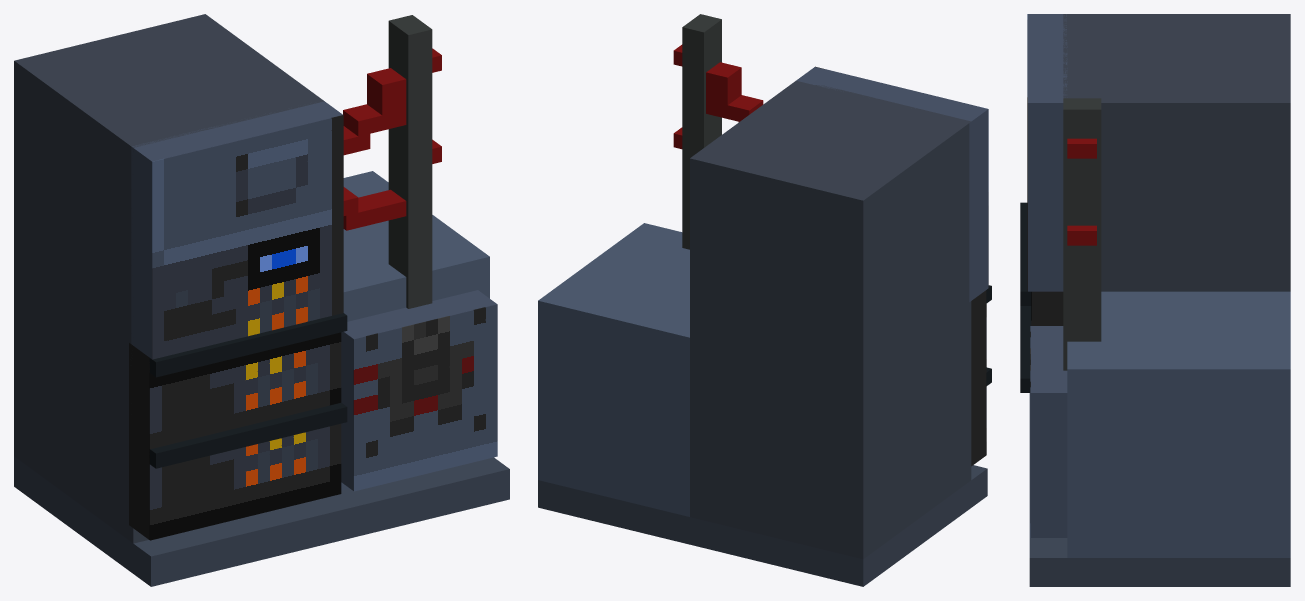
The model's file is CMU3DTelecomReceiverCloud.glb.
3 views of the same model, side by side, from view 1: azimuth 30°, elevation 25°; view 2: azimuth 150°, elevation 25°; view 3: azimuth 270°, elevation 25° (orthographic). The views are drawn at different scales.
Parts seen in each view (by area): view 1: left receiver rack body, upper receiver control face original face, antenna base control cover original face, full width receiver base, separate rack module 2 original face, separate rack module 1 original face, black vertical antenna mast, right antenna support enclosure, upper receiver control face, antenna base control cover, black separating rack rail 2, black separating rack rail 1 (+5 smaller); view 2: left receiver rack body, right antenna support enclosure, full width receiver base, upper receiver control face, black vertical antenna mast, separate rack module 1, separate rack module 2, separate burgundy antenna branch 3, separate burgundy antenna branch 2; view 3: right antenna support enclosure, left receiver rack body, upper receiver control face, full width receiver base, black vertical antenna mast, antenna base control cover, separate rack module 1, black separating rack rail 2, black separating rack rail 1, separate burgundy antenna branch 6, separate burgundy antenna branch 7.
Boxes of the visible parts, x1,y1,x2,y2 form: left receiver rack body: [14, 14, 324, 543]; upper receiver control face original face: [152, 115, 343, 359]; antenna base control cover original face: [353, 304, 497, 491]; full width receiver base: [14, 456, 509, 586]; separate rack module 2 original face: [149, 423, 341, 540]; separate rack module 1 original face: [149, 332, 341, 449]; black vertical antenna mast: [388, 15, 432, 308]; right antenna support enclosure: [341, 171, 489, 490]; upper receiver control face: [131, 101, 342, 358]; antenna base control cover: [341, 290, 496, 490]; black separating rack rail 2: [149, 402, 347, 468]; black separating rack rail 1: [149, 313, 347, 377]; left receiver rack body: [690, 80, 971, 559]; right antenna support enclosure: [538, 223, 689, 516]; full width receiver base: [538, 465, 987, 586]; upper receiver control face: [796, 67, 988, 301]; black vertical antenna mast: [682, 14, 721, 249]; separate rack module 1: [971, 290, 986, 383]; separate rack module 2: [971, 373, 986, 466]; separate burgundy antenna branch 3: [706, 62, 741, 105]; separate burgundy antenna branch 2: [706, 95, 763, 121]; right antenna support enclosure: [1067, 291, 1290, 557]; left receiver rack body: [1063, 14, 1290, 291]; upper receiver control face: [1028, 14, 1067, 291]; full width receiver base: [1029, 393, 1290, 586]; black vertical antenna mast: [1063, 98, 1101, 370]; antenna base control cover: [1031, 326, 1067, 537]; separate rack module 1: [1032, 291, 1063, 325]; black separating rack rail 2: [1020, 306, 1031, 392]; black separating rack rail 1: [1020, 202, 1031, 305]; separate burgundy antenna branch 6: [1067, 138, 1096, 158]; separate burgundy antenna branch 7: [1067, 225, 1096, 245].
Bounding box in the file's own units: 0.9375 × 1.18 × 0.642.
13 materials, 4 textured.
